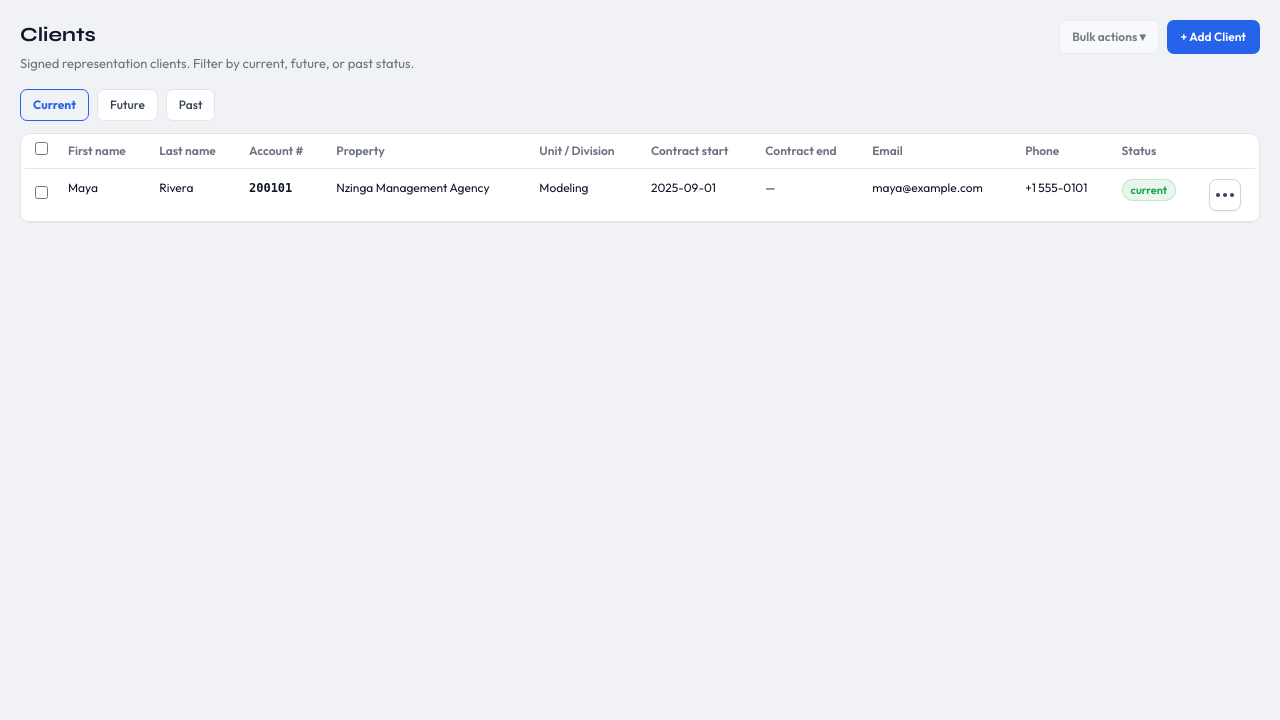
Test: ClientsModule › confirms before moving a client to Past and does nothing on cancel
This screenshot has width=1280, height=720.
Click the button named "Row actions" at (1225,195), box [1209,179,1241,211]
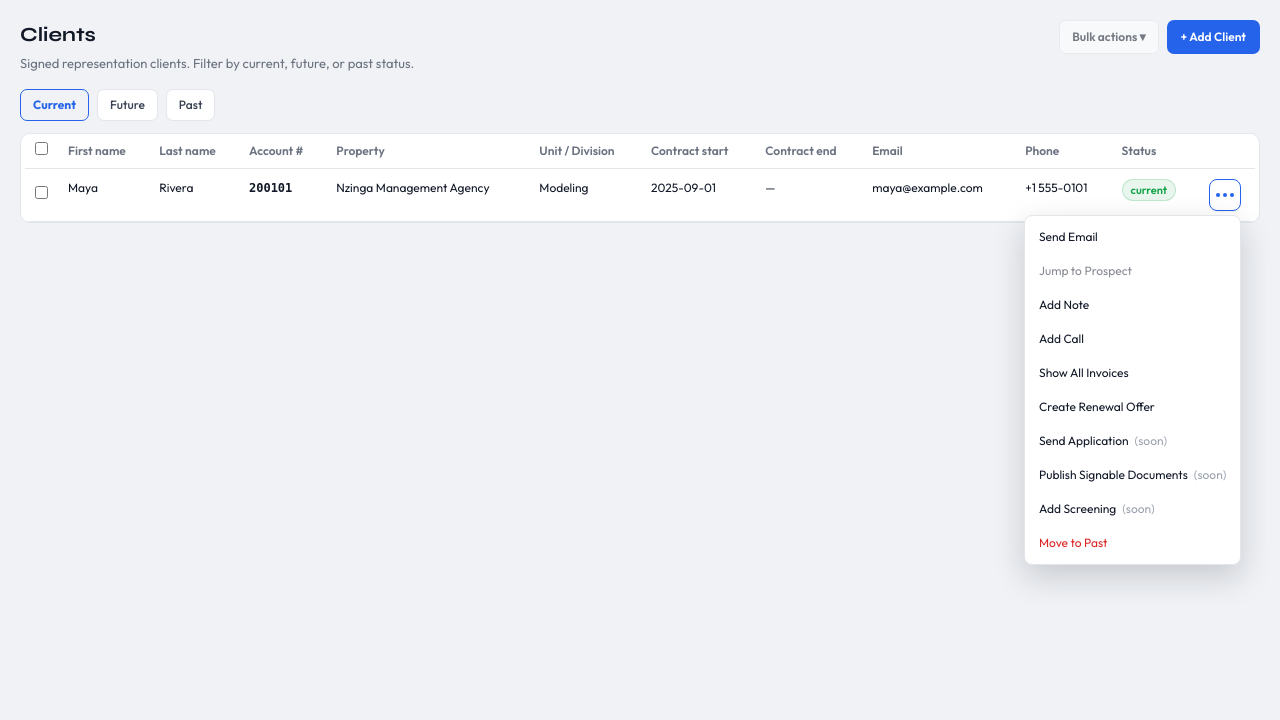
Click the menu item "Move to Past" at (1133,543), box [1029,526,1236,560]
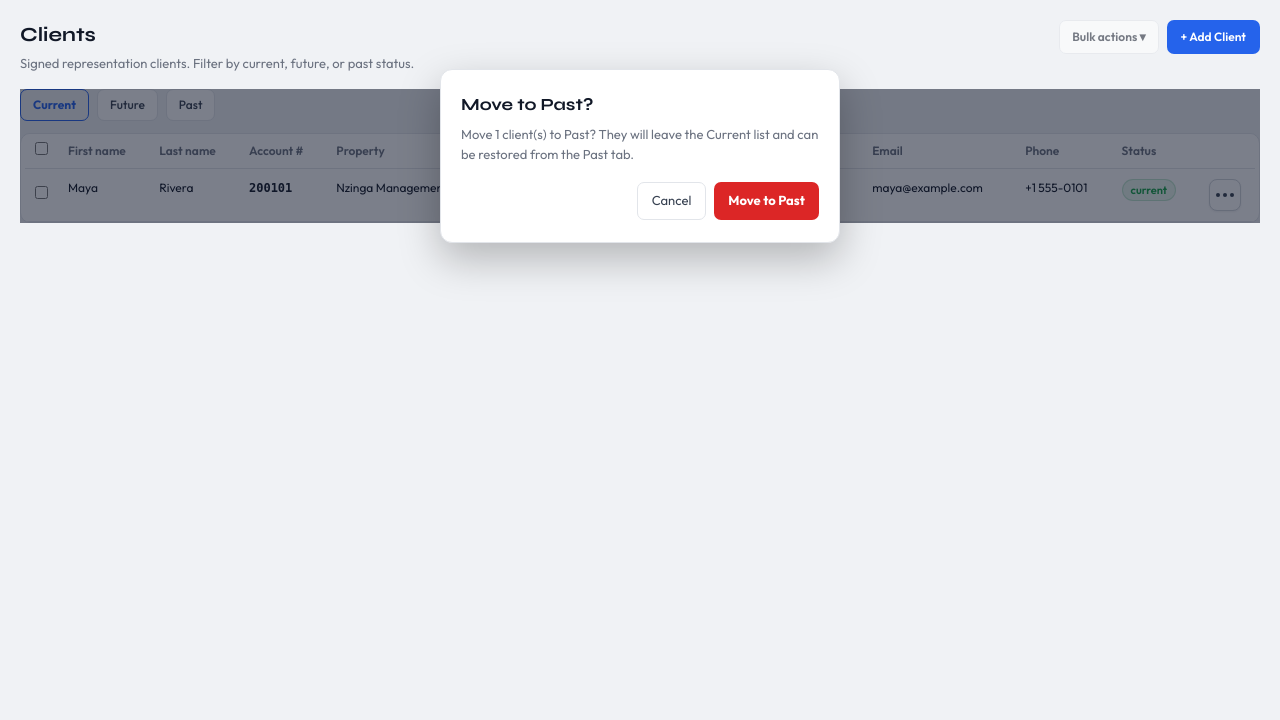
Result: the dialog is shown at [20,89,1260,223]
Result: the text "leave the Current list" is shown at [461,126,818,162]
Click the button "Cancel" at (672,201), box [637,182,706,220]
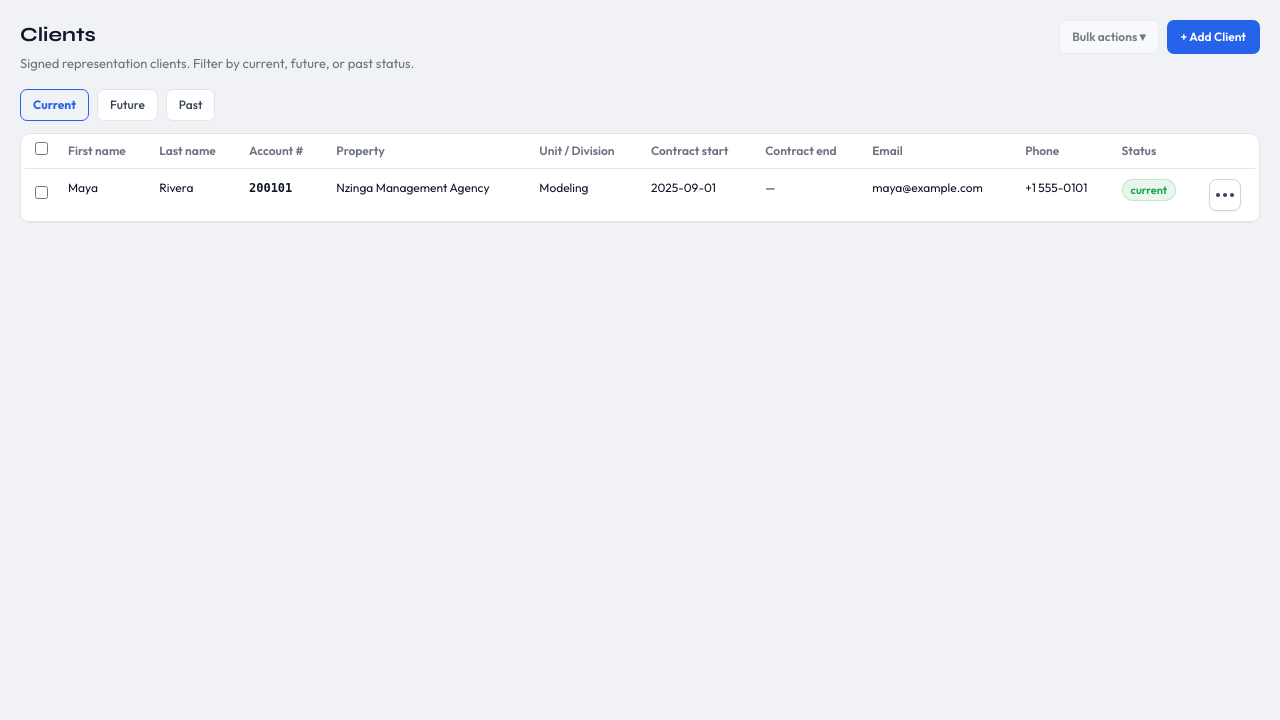
Result: the dialog is gone
